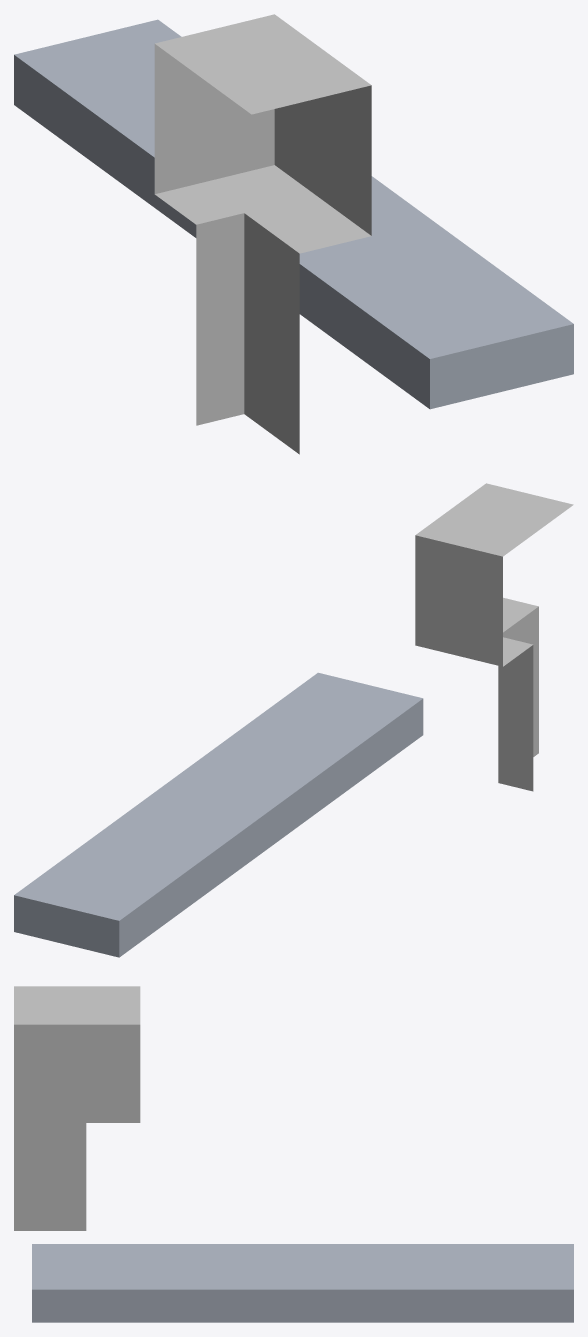
Rendered from cell_98.obj.
The picture shows the model from 3 angles, top to bottom: view 1: azimuth 30°, elevation 25°; view 2: azimuth 150°, elevation 25°; view 3: azimuth 270°, elevation 25°; orthographic projection. The views are drawn at different scales.
Bounding box in the file's own units: 0.4375 × 0.4375 × 0.9688.
